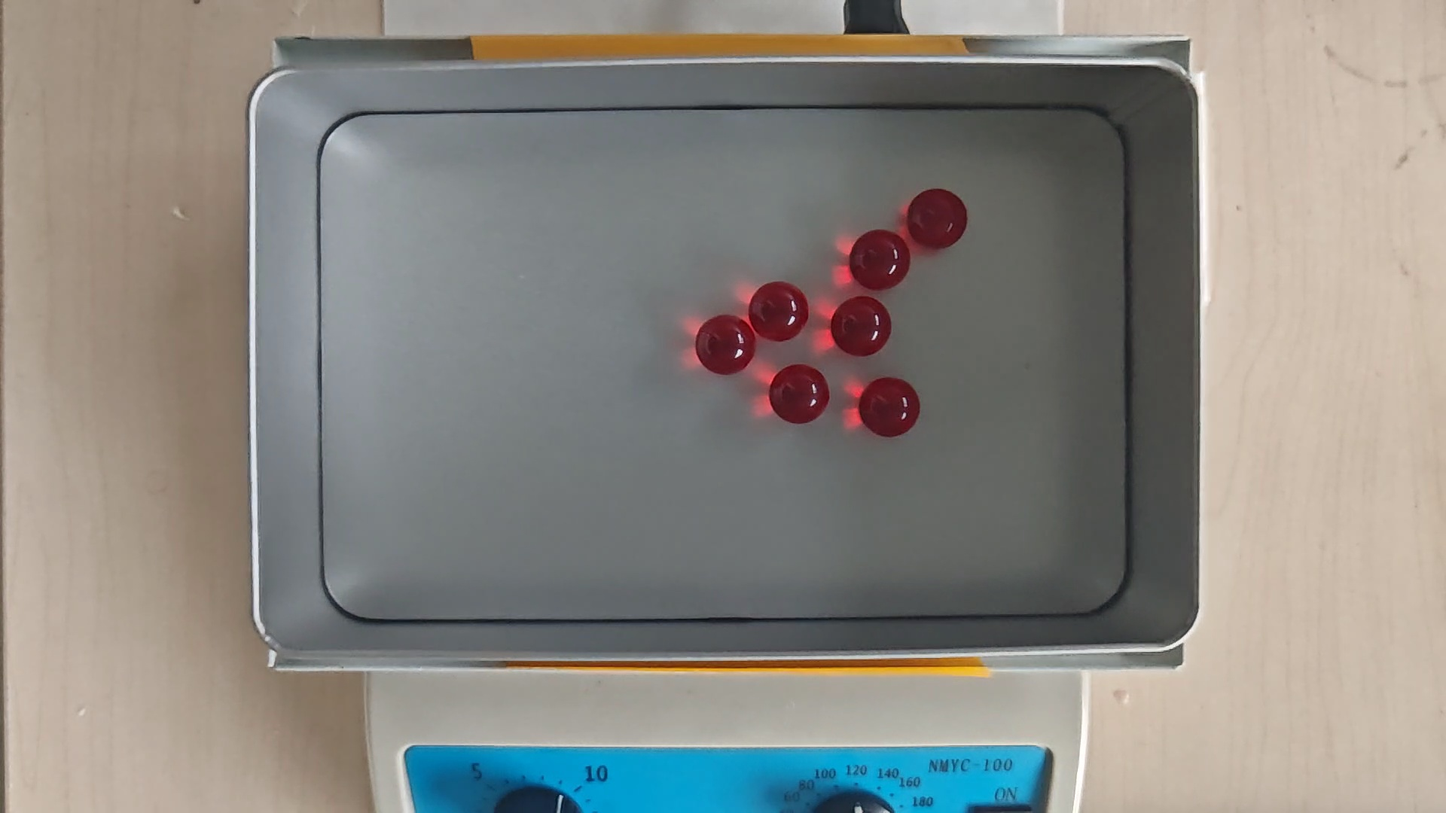ball: (849, 228, 909, 291), (861, 377, 919, 440), (832, 296, 892, 356), (910, 187, 967, 250), (771, 365, 828, 426), (697, 315, 754, 375), (752, 283, 809, 343)
container: (319, 108, 1129, 618)
